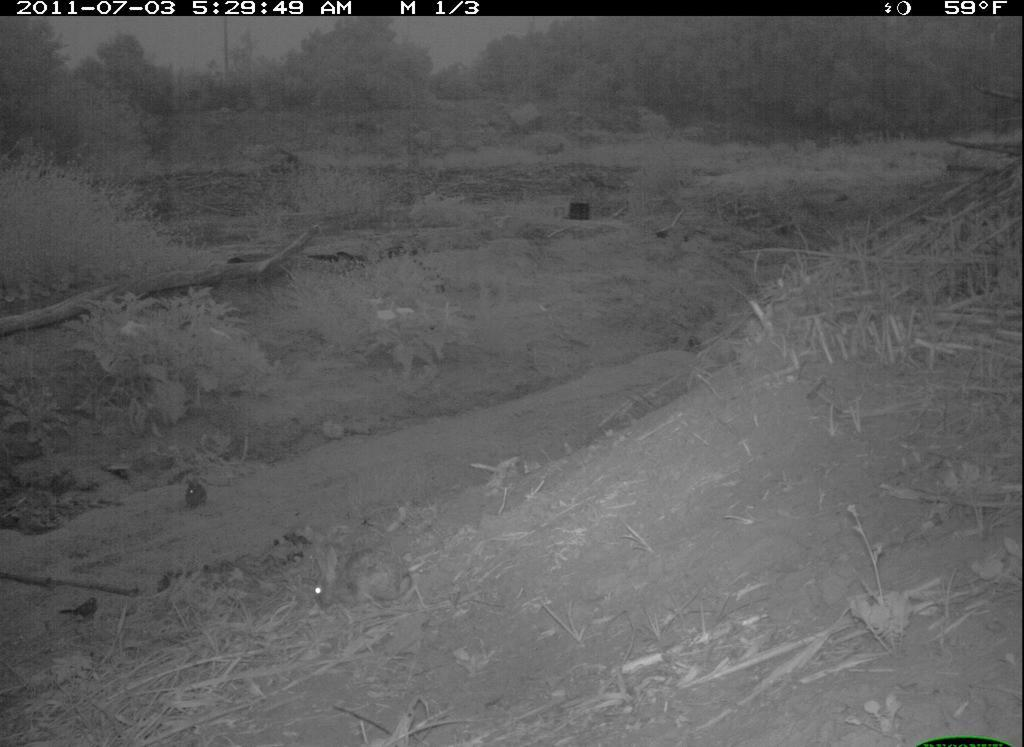rabbit: (302, 537, 419, 621), (180, 475, 210, 512)
